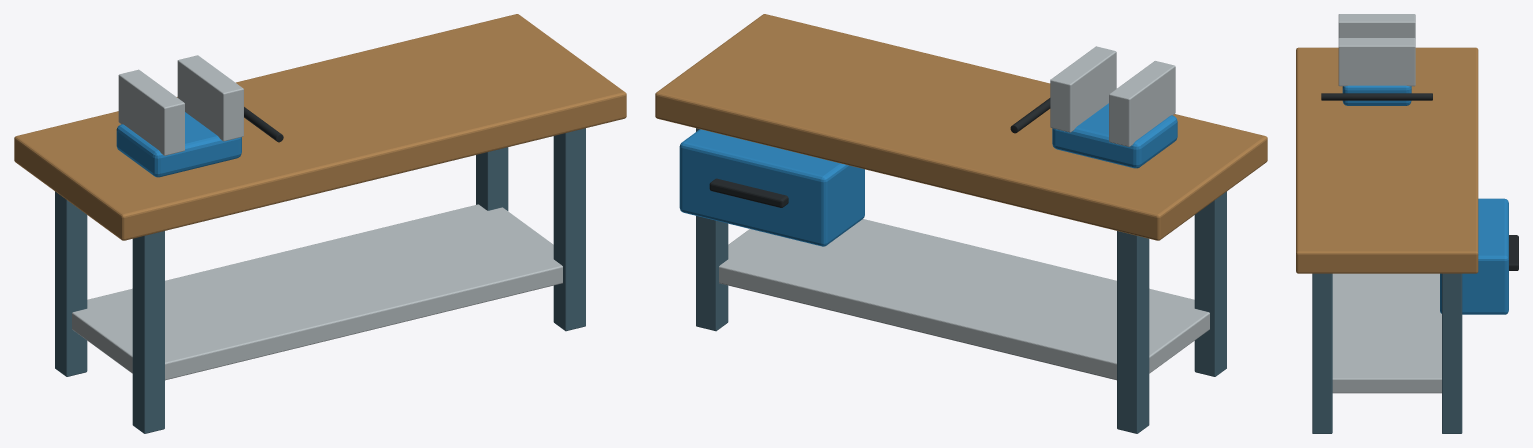
Rendered from industrial_workbench.glb.
3 views of the same model, side by side, from view 1: azimuth 30°, elevation 25°; view 2: azimuth 150°, elevation 25°; view 3: azimuth 270°, elevation 25° (orthographic). The views are drawn at different scales.
Visible parts, largest first — view 1: BENCH_top, BENCH_shelf, BENCH_leg_-1.0_-0.32, BENCH_leg_1.0_-0.32, BENCH_leg_-1.0_0.32, VISE_jaw_fixed, VISE_jaw_moving, VISE_base, BENCH_leg_1.0_0.32; view 2: BENCH_top, BENCH_shelf, BENCH_drawer, BENCH_leg_-1.0_0.32, BENCH_leg_-1.0_-0.32, VISE_jaw_fixed, VISE_jaw_moving, VISE_base, BENCH_leg_1.0_0.32, DRAWER_handle; view 3: BENCH_top, BENCH_shelf, BENCH_drawer, VISE_jaw_moving, BENCH_leg_1.0_-0.32, BENCH_leg_1.0_0.32, VISE_jaw_fixed, VISE_base, VISE_handle, DRAWER_handle.
Boxes of the visible parts, x1,y1,x2,y2 form: BENCH_top: (14, 14, 626, 240); BENCH_shelf: (72, 204, 562, 380); BENCH_leg_-1.0_-0.32: (132, 231, 164, 433); BENCH_leg_1.0_-0.32: (553, 128, 585, 331); BENCH_leg_-1.0_0.32: (55, 191, 87, 376); VISE_jaw_fixed: (118, 69, 184, 155); VISE_jaw_moving: (177, 55, 243, 141); VISE_base: (116, 112, 241, 177); BENCH_leg_1.0_0.32: (476, 147, 508, 210); BENCH_top: (655, 14, 1267, 240); BENCH_shelf: (719, 219, 1209, 380); BENCH_drawer: (679, 129, 864, 246); BENCH_leg_-1.0_0.32: (1117, 231, 1149, 433); BENCH_leg_-1.0_-0.32: (1194, 191, 1226, 376); VISE_jaw_fixed: (1109, 61, 1175, 146); VISE_jaw_moving: (1050, 46, 1116, 132); VISE_base: (1052, 103, 1177, 168); BENCH_leg_1.0_0.32: (696, 128, 728, 331); DRAWER_handle: (709, 178, 788, 207); BENCH_top: (1296, 47, 1478, 273); BENCH_shelf: (1332, 273, 1441, 393); BENCH_drawer: (1440, 198, 1508, 314); VISE_jaw_moving: (1338, 38, 1415, 86); BENCH_leg_1.0_-0.32: (1312, 273, 1332, 433); BENCH_leg_1.0_0.32: (1442, 273, 1462, 433); VISE_jaw_fixed: (1338, 14, 1415, 38); VISE_base: (1342, 85, 1411, 105); VISE_handle: (1321, 93, 1432, 100); DRAWER_handle: (1509, 235, 1518, 270).
Size of the model in its own units: 2.4 by 1.39 by 1.1.
